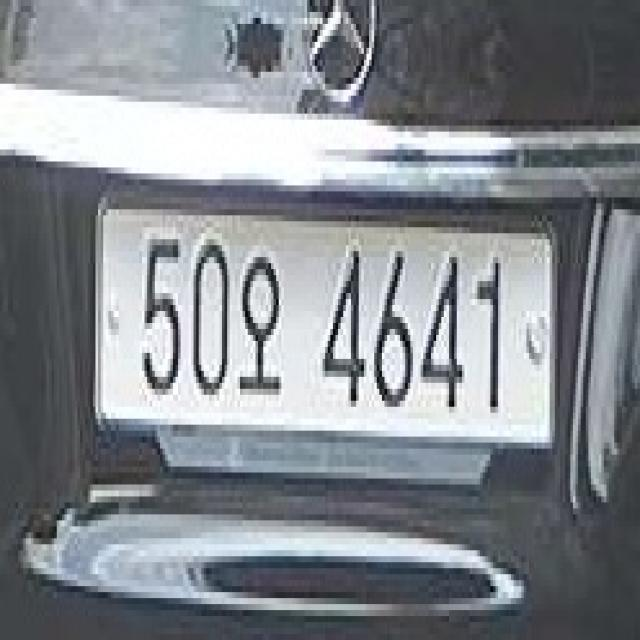0: (191, 225, 234, 406)
1: (476, 242, 512, 423)
4: (319, 233, 368, 417), (421, 246, 466, 420)
5: (138, 224, 187, 402)
6: (371, 243, 417, 418)
license_plate: (73, 181, 570, 474)
o: (238, 235, 288, 408)
